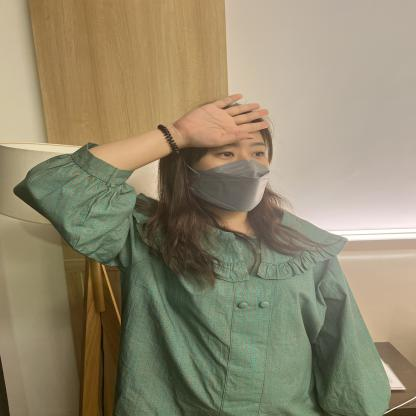Sick: (112, 74, 296, 196)
